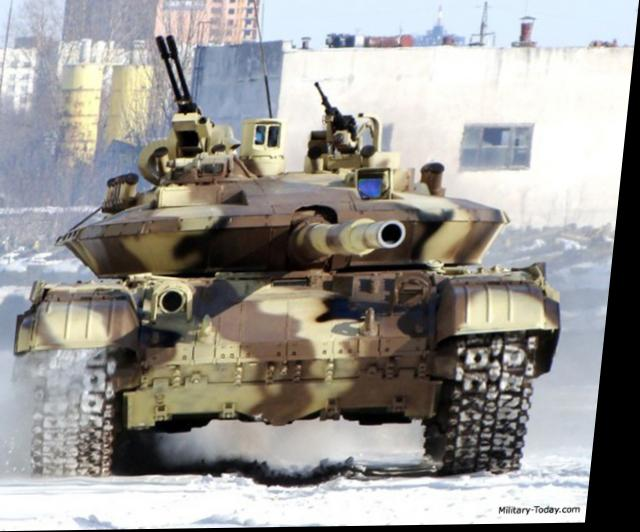tank: (30, 112, 581, 479)
